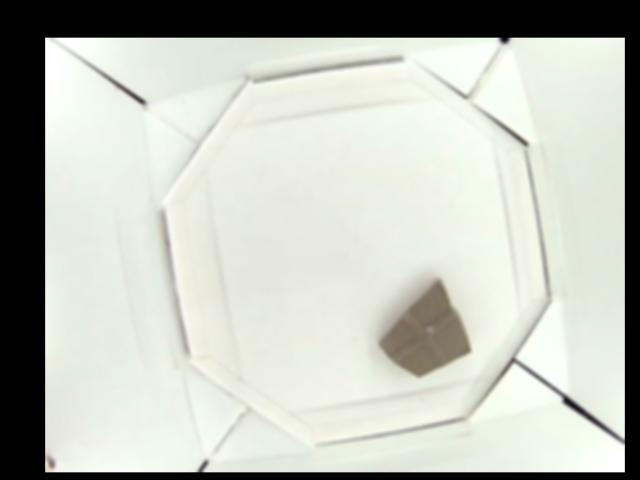China: (381, 276, 473, 375)
